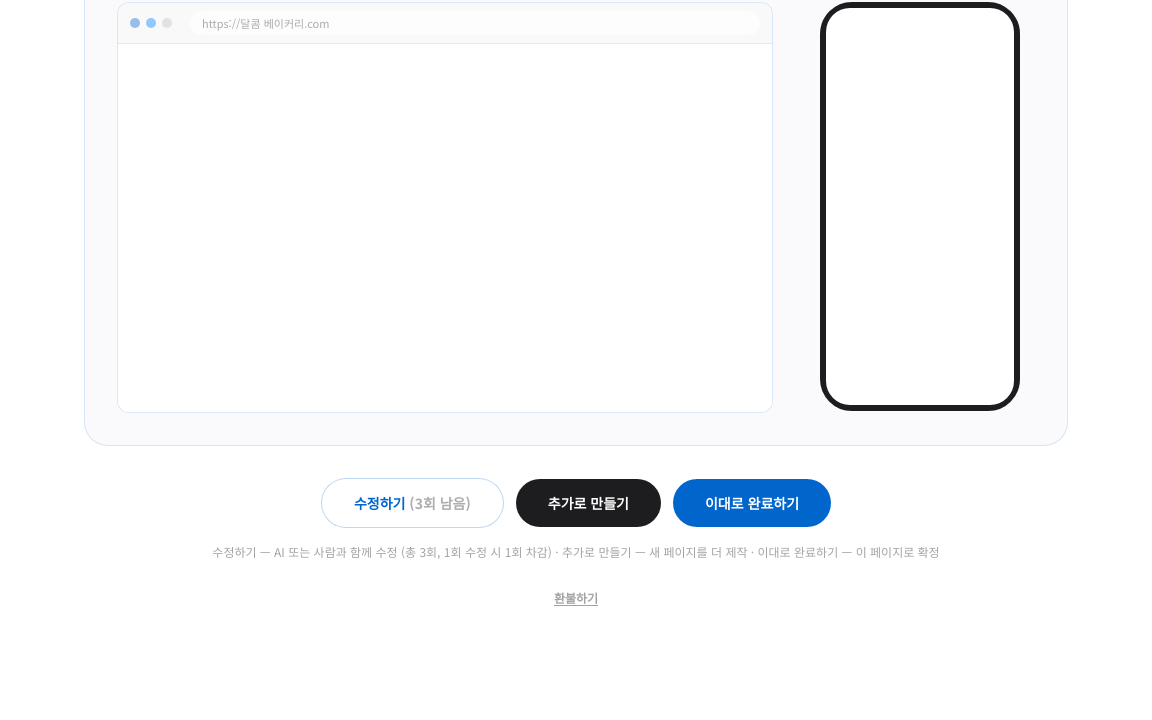
Test case: OrderResultPage 환불 › 환불 완료 후에는 환불하기 버튼 대신 환불 완료 상태를 보여준다
(page scrolled)
Click the button "환불하기" at (576, 598), box x1=554 y1=590 x2=598 y2=606
(page scrolled)
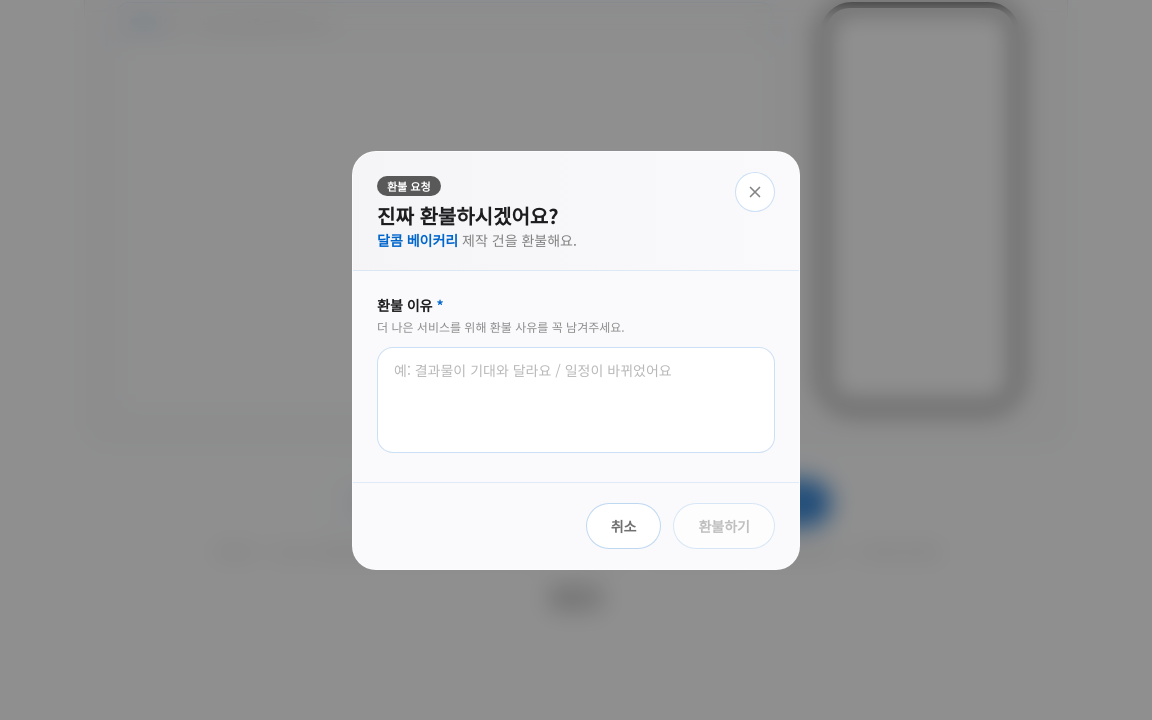
Type "단순 변심" into the text box labelled "환불 이유 *" at (576, 400), box x1=377 y1=346 x2=775 y2=452
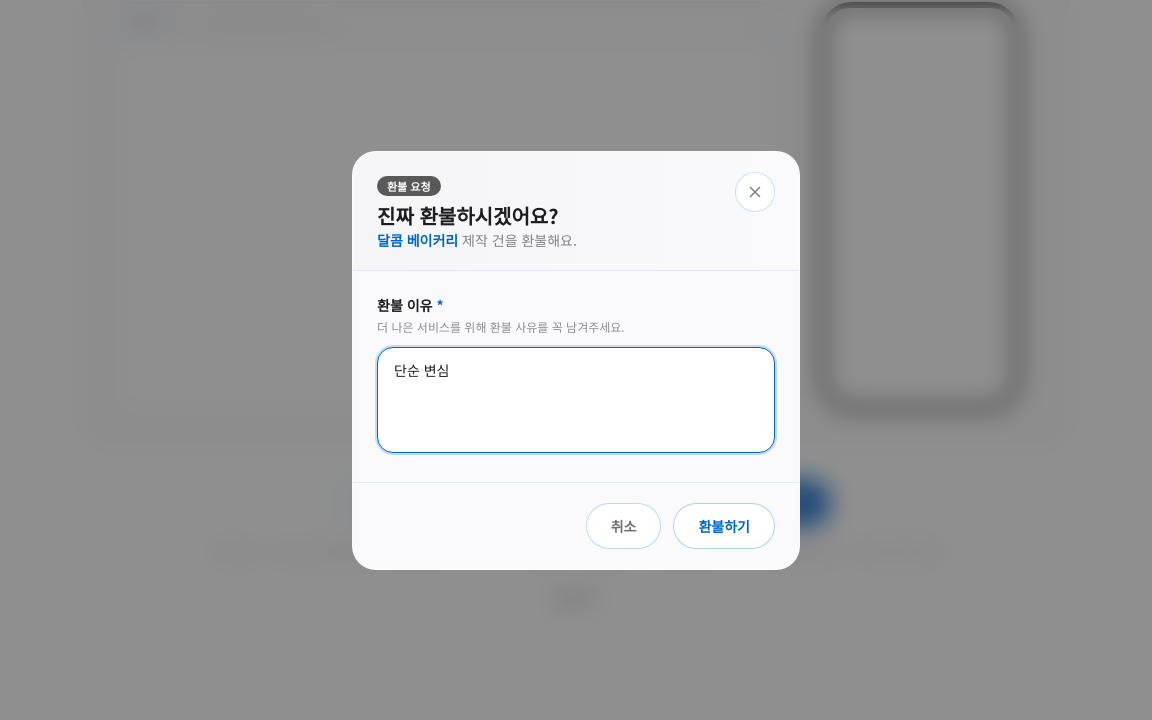
Click the button "환불하기" at (724, 526), box x1=674 y1=502 x2=775 y2=548
(page scrolled)
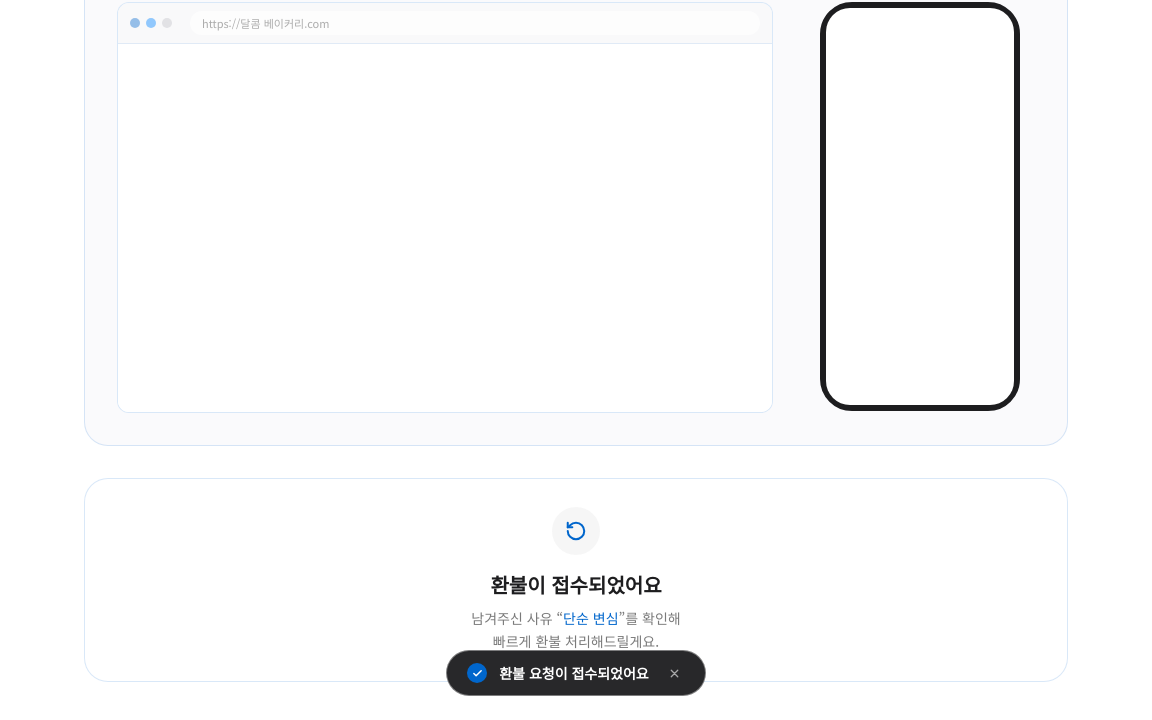
Expected: the button "환불하기" is gone
Expected: the heading "환불이 접수되었어요" is shown, x1=490 y1=570 x2=662 y2=599
